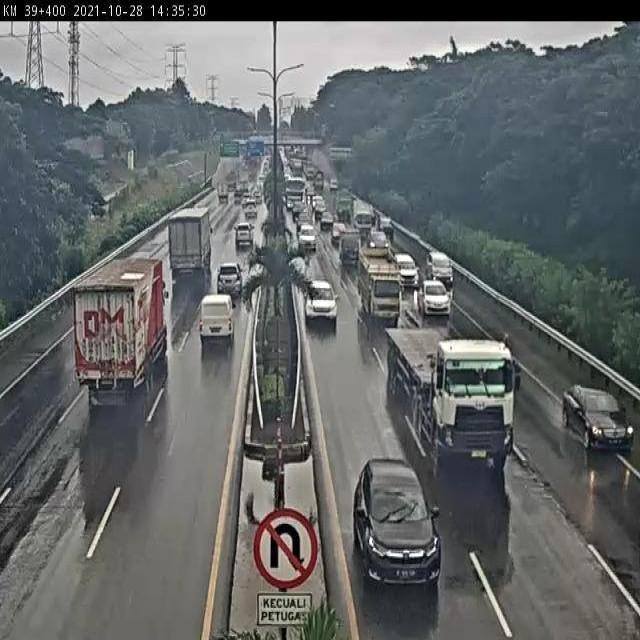car: (356, 459, 443, 584), (563, 384, 633, 459), (199, 295, 233, 341), (304, 280, 335, 321), (420, 283, 449, 320), (427, 250, 453, 286), (338, 231, 362, 263), (215, 265, 241, 292), (399, 255, 419, 288), (234, 224, 253, 248), (299, 221, 316, 247), (381, 216, 394, 236), (291, 202, 306, 218), (370, 231, 384, 248), (245, 200, 257, 217), (319, 211, 331, 227), (334, 219, 345, 236), (314, 197, 326, 212)
truck: (386, 328, 519, 459), (71, 255, 168, 397), (357, 249, 400, 323), (167, 208, 212, 272), (352, 202, 373, 234), (288, 175, 305, 205), (336, 186, 351, 218), (218, 183, 227, 201)
